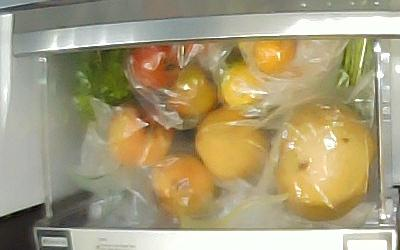peach_vinyl: (107, 102, 174, 167), (150, 153, 213, 215)
pear_vinyl: (275, 102, 373, 220), (196, 105, 267, 178)
tangerine_vinyl: (222, 63, 263, 109), (252, 40, 297, 76), (237, 40, 254, 67)
tomato_vinyl: (166, 65, 216, 117), (130, 44, 180, 88)
